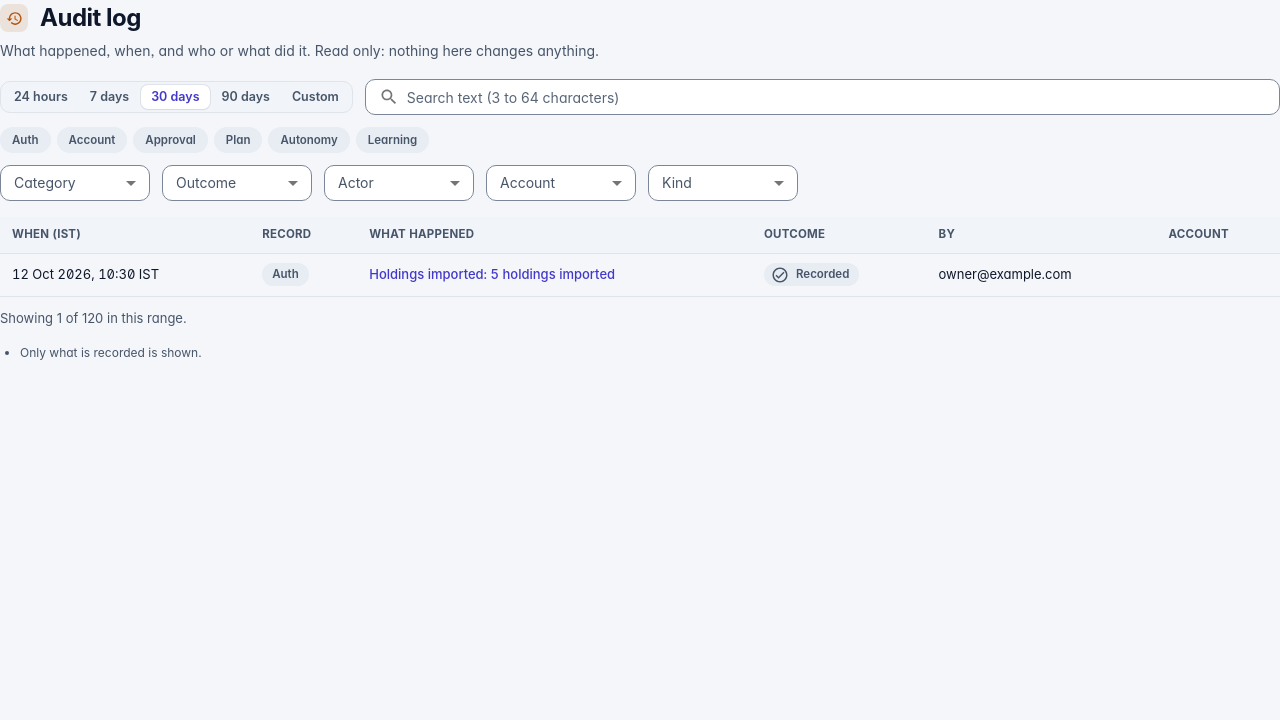
Scenario: the Audit log screen › opens the detail with the IP address and user agent and has no export control
Click the button with aria-label "Details of auth:" at (492, 275), box x1=369 y1=263 x2=615 y2=287
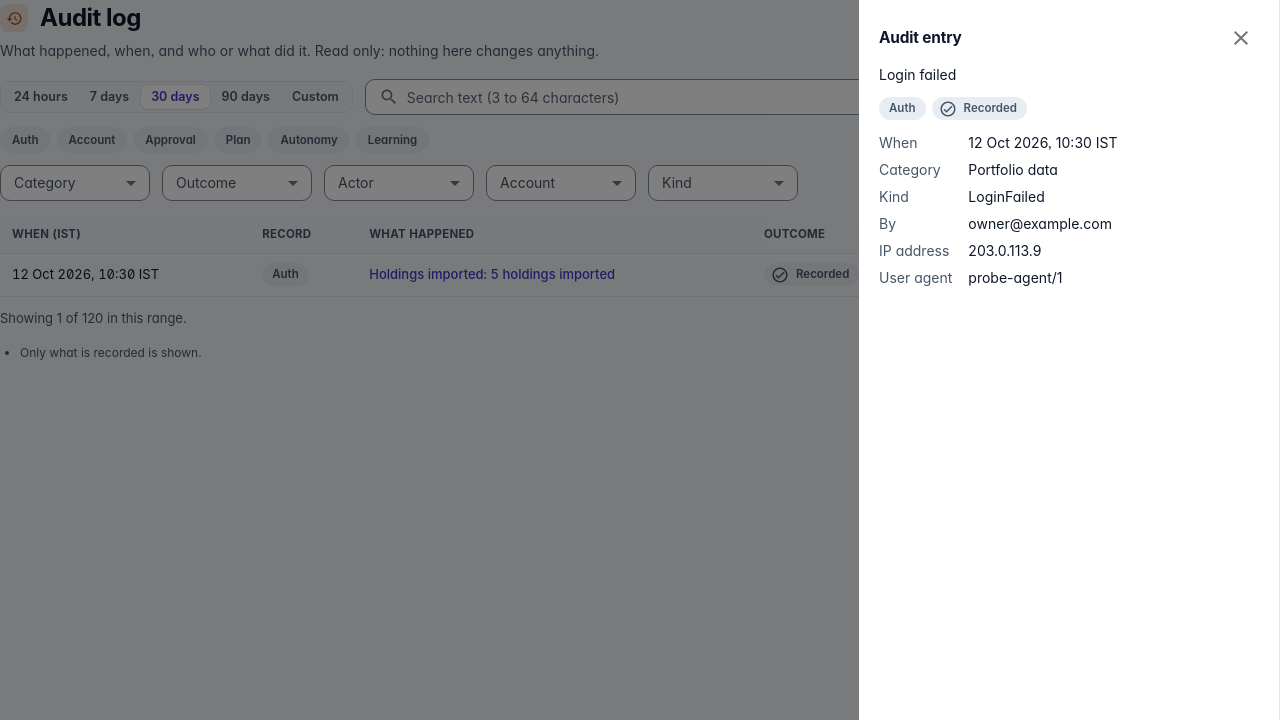
Check: the text "203.0.113.9" is shown, box x1=968 y1=242 x2=1041 y2=259
Check: the text "probe-agent/1" is shown, box x1=968 y1=269 x2=1062 y2=286
